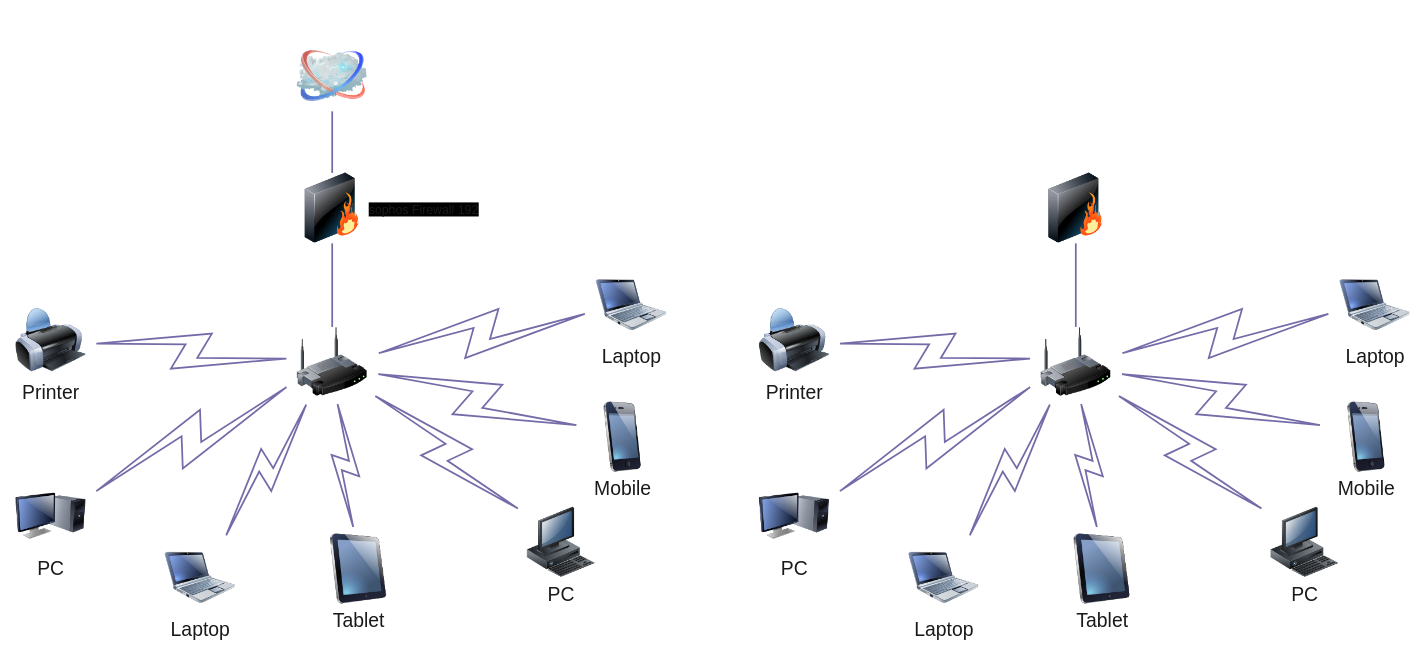
This 1425x656 diagram has some shape labels left out. The shapes that lost their labels are listed below. From the top down, each one's box as (x1, y1, x2, y2) in pixels, then its label:
(297, 40, 367, 111): Internet
(1040, 172, 1111, 243): Firewall
